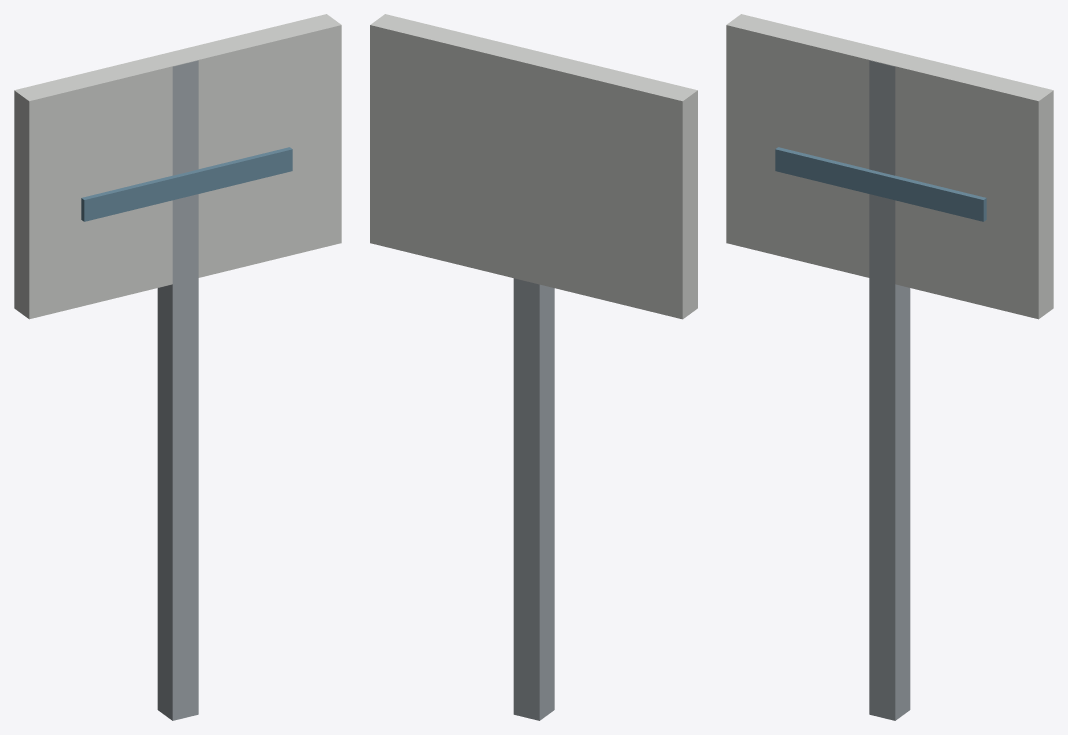
The model's file is long-haul-trucking-and-truck-stop-truck-scale-sign-d0844677__13992.glb.
3 views of the same model, side by side, from view 1: azimuth 30°, elevation 25°; view 2: azimuth 150°, elevation 25°; view 3: azimuth 330°, elevation 25° (orthographic).
Visible parts, largest first — view 1: truck-scale-sign; view 2: truck-scale-sign; view 3: truck-scale-sign.
Boxes of the visible parts, <box> form: truck-scale-sign: <box>14,14,341,720</box>; truck-scale-sign: <box>370,14,697,720</box>; truck-scale-sign: <box>726,14,1053,720</box>.
Size of the model in its own units: 1.2 by 2.4 by 0.12.
